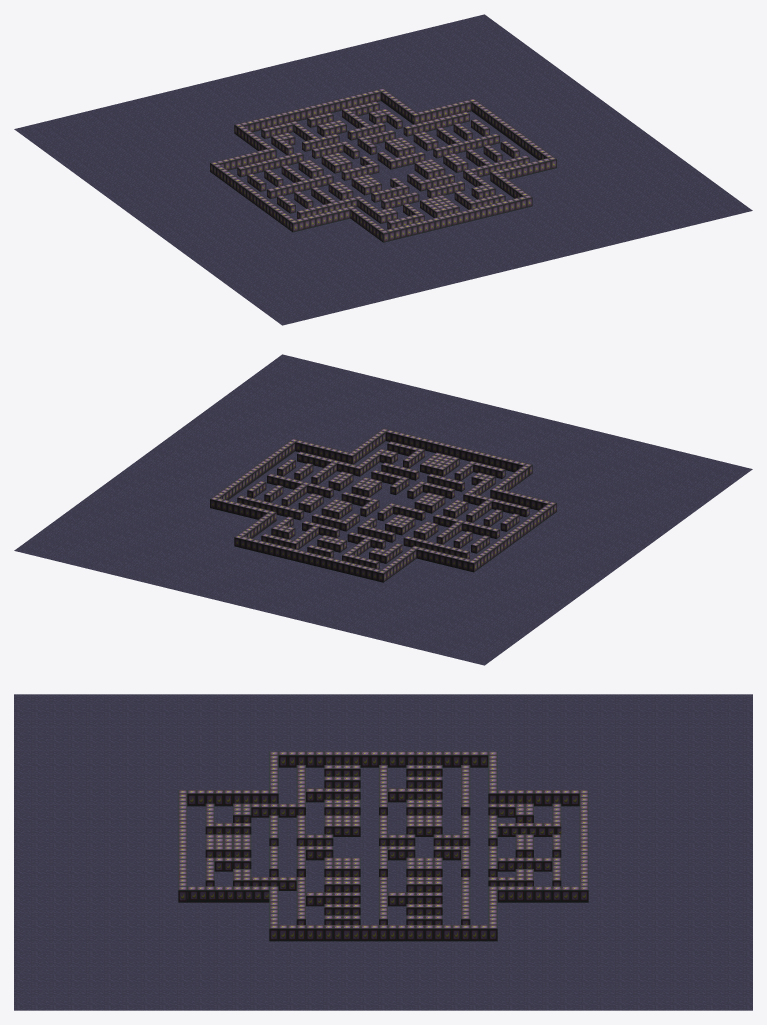
Rendered from maze_3player.glb.
The picture shows the model from 3 angles, top to bottom: view 1: azimuth 30°, elevation 25°; view 2: azimuth 150°, elevation 25°; view 3: azimuth 270°, elevation 25°; orthographic projection. The views are drawn at different scales.
Parts seen in each view (by area): view 1: outer_floor_1, outer_wall, maze_floor, o15, o8_1, o8, o15_1, o133, o4_1, o8_2, o4, o8_3 (+5 smaller); view 2: outer_floor_1, outer_wall, maze_floor, o133, o15, o8_3, o8_2, o15_1, o8, o8_1, o4, o4_3 (+7 smaller); view 3: outer_floor_1, maze_floor, outer_wall, o133, o4, o4_1, o5_3, o5_2, o13_3, o4_2, o13_1, o5_1 (+18 smaller).
Part boxes in pixels (x1=…): outer_floor_1: x1=14, y1=14, x2=752, y2=325; outer_wall: x1=210, y1=88, x2=556, y2=242; maze_floor: x1=229, y1=101, x2=537, y2=229; o15: x1=433, y1=133, x2=499, y2=158; o8_1: x1=237, y1=152, x2=303, y2=177; o8: x1=403, y1=111, x2=469, y2=136; o15_1: x1=267, y1=174, x2=333, y2=198; o133: x1=420, y1=195, x2=459, y2=217; o4_1: x1=261, y1=121, x2=318, y2=140; o8_2: x1=463, y1=155, x2=529, y2=179; o4: x1=342, y1=101, x2=379, y2=128; o8_3: x1=297, y1=196, x2=362, y2=218; outer_floor_1: x1=14, y1=354, x2=752, y2=665; outer_wall: x1=210, y1=428, x2=556, y2=582; maze_floor: x1=229, y1=441, x2=537, y2=569; o133: x1=420, y1=452, x2=459, y2=476; o15: x1=267, y1=473, x2=333, y2=498; o8_3: x1=463, y1=492, x2=529, y2=517; o8_2: x1=297, y1=451, x2=363, y2=476; o15_1: x1=433, y1=514, x2=499, y2=538; o8: x1=237, y1=495, x2=303, y2=520; o8_1: x1=403, y1=536, x2=469, y2=558; o4: x1=261, y1=526, x2=318, y2=549; o4_3: x1=454, y1=461, x2=505, y2=480; outer_floor_1: x1=14, y1=694, x2=752, y2=1010; maze_floor: x1=187, y1=767, x2=579, y2=924; outer_wall: x1=178, y1=751, x2=588, y2=941; o133: x1=205, y1=834, x2=251, y2=857; o4: x1=497, y1=857, x2=561, y2=886; o4_1: x1=497, y1=803, x2=561, y2=836; o5_3: x1=233, y1=803, x2=296, y2=822; o5_2: x1=233, y1=869, x2=296, y2=890; o13_3: x1=324, y1=815, x2=360, y2=836; o4_2: x1=205, y1=857, x2=251, y2=886; o13_1: x1=406, y1=815, x2=442, y2=836; o5_1: x1=488, y1=803, x2=533, y2=822.
Bounding box in the file's own units: 164 × 3 × 162.
Materials: 2 (2 with a texture image).
